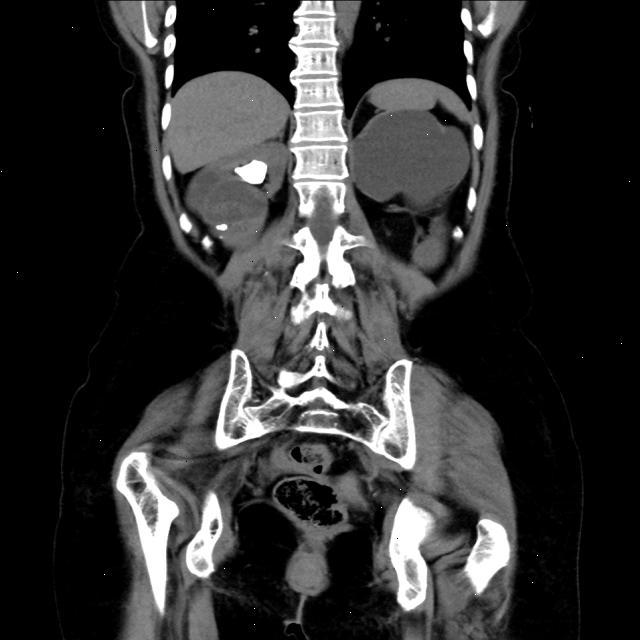kidneystone: (235, 160, 268, 185), (216, 224, 228, 231)
